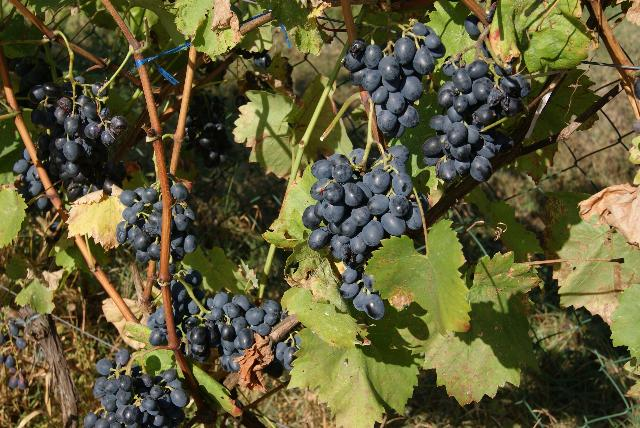grapes: (302, 145, 428, 320), (421, 60, 531, 182), (29, 78, 128, 200), (344, 22, 445, 138), (175, 291, 289, 372), (84, 349, 190, 428), (116, 184, 162, 262), (170, 182, 198, 261), (12, 150, 44, 200)
